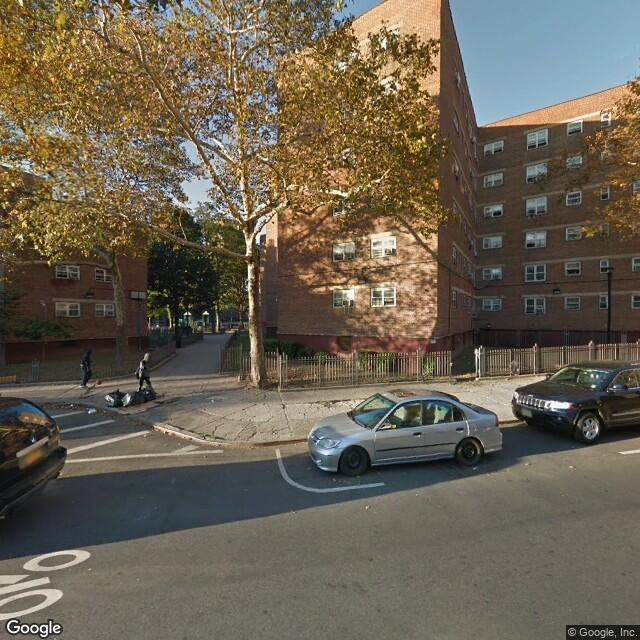litter: (84, 407, 98, 414), (68, 400, 74, 408)
